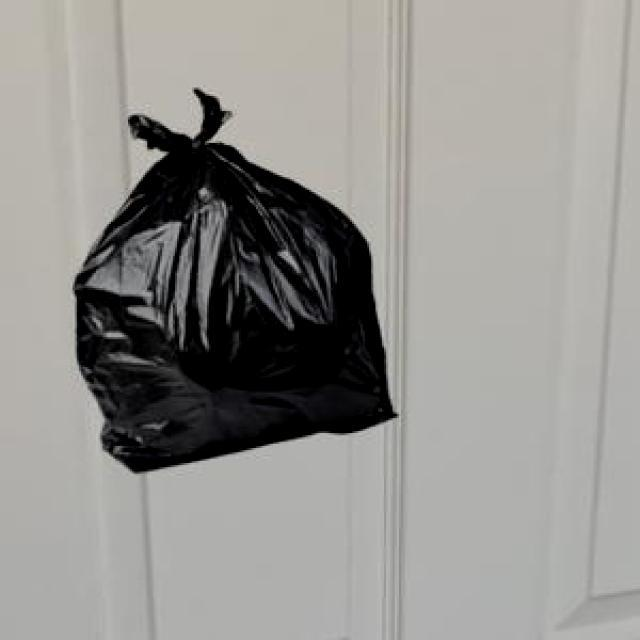Trashbag: (70, 78, 404, 484)
